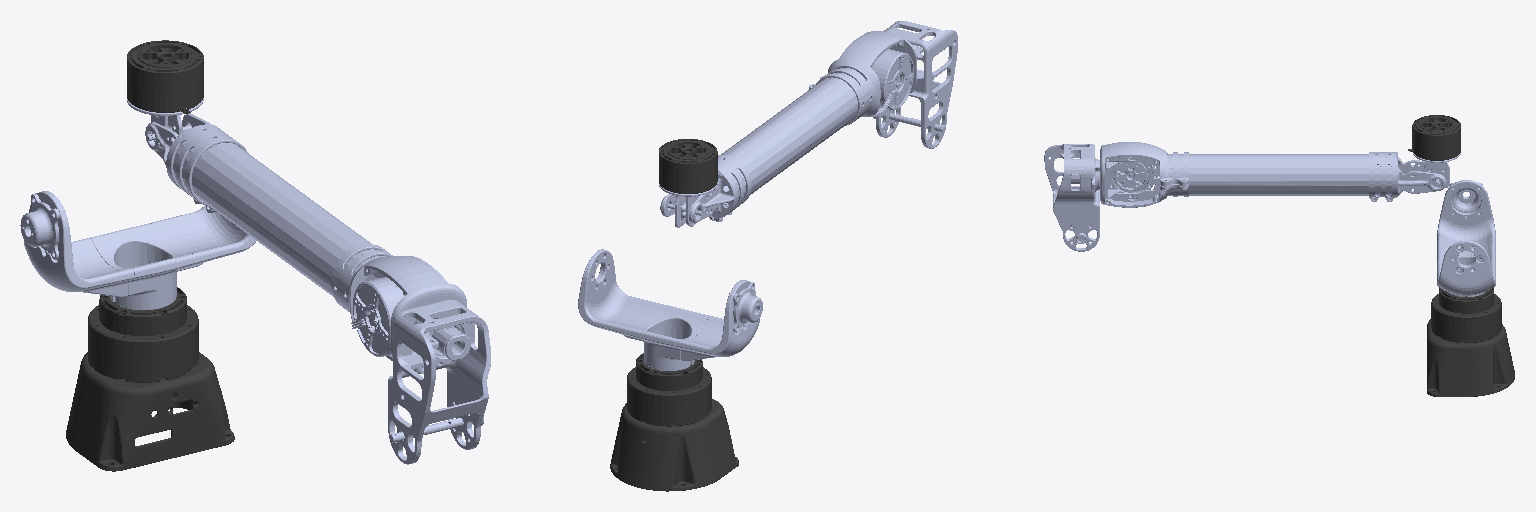
URDF robot description (FastArmer):
<?xml version="1.0" encoding="utf-8"?>
<!-- This URDF was automatically created by SolidWorks to URDF Exporter! Originally created by [author] ([email redacted]) 
     Commit Version: 1.6.0-1-g15f4949  Build Version: 1.6.7594.29634
     For more information, please see http://wiki.ros.org/sw_urdf_exporter -->
<robot
  name="FastArmer">
  <link
    name="base_link">
    <inertial>
      <origin
        xyz="-7.95585650901209E-05 -0.000462722401799009 0.0681453386578888"
        rpy="0 0 0" />
      <mass
        value="0.23763492660524" />
      <inertia
        ixx="0.000152486129579449"
        ixy="-1.24954243239131E-07"
        ixz="-3.47152305512023E-08"
        iyy="0.000162066033231765"
        iyz="1.59940105977221E-06"
        izz="0.000227896620770121" />
    </inertial>
    <visual>
      <origin
        xyz="0 0 0"
        rpy="0 0 0" />
      <geometry>
        <mesh
          filename="package://FastArmer/meshes/base_link.STL" />
      </geometry>
      <material
        name="">
        <color
          rgba="0.298039215686275 0.298039215686275 0.298039215686275 1" />
      </material>
    </visual>
    <collision>
      <origin
        xyz="0 0 0"
        rpy="0 0 0" />
      <geometry>
        <mesh
          filename="package://FastArmer/meshes/base_link.STL" />
      </geometry>
    </collision>
  </link>
  <link
    name="link1">
    <inertial>
      <origin
        xyz="-2.50218681052683E-07 -0.00305164206962188 -0.036242986713688"
        rpy="0 0 0" />
      <mass
        value="0.121039875923321" />
      <inertia
        ixx="0.000134357938922348"
        ixy="-4.35945002280025E-11"
        ixz="-7.66548516576531E-09"
        iyy="6.99882650494688E-05"
        iyz="-2.15666748742684E-05"
        izz="0.000138275187702787" />
    </inertial>
    <visual>
      <origin
        xyz="0 0 0"
        rpy="0 0 0" />
      <geometry>
        <mesh
          filename="package://FastArmer/meshes/link1.STL" />
      </geometry>
      <material
        name="">
        <color
          rgba="0.792156862745098 0.819607843137255 0.933333333333333 1" />
      </material>
    </visual>
    <collision>
      <origin
        xyz="0 0 0"
        rpy="0 0 0" />
      <geometry>
        <mesh
          filename="package://FastArmer/meshes/link1.STL" />
      </geometry>
    </collision>
  </link>
  <joint
    name="joint1"
    type="continuous">
    <origin
      xyz="0 0 0.176"
      rpy="0 0 -1.5708" />
    <parent
      link="base_link" />
    <child
      link="link1" />
    <axis
      xyz="0 0 -1" />
  </joint>
  <link
    name="link2">
    <inertial>
      <origin
        xyz="0.0473450599629209 -4.58388010393662E-06 -0.00292384400918178"
        rpy="0 0 0" />
      <mass
        value="0.591012880164826" />
      <inertia
        ixx="0.000276034377116555"
        ixy="9.9205575777915E-07"
        ixz="-3.11989996323451E-06"
        iyy="0.000686219679670127"
        iyz="-1.99672828293364E-07"
        izz="0.000777900346197567" />
    </inertial>
    <visual>
      <origin
        xyz="0 0 0"
        rpy="0 0 0" />
      <geometry>
        <mesh
          filename="package://FastArmer/meshes/link2.STL" />
      </geometry>
      <material
        name="">
        <color
          rgba="0.792156862745098 0.819607843137255 0.933333333333333 1" />
      </material>
    </visual>
    <collision>
      <origin
        xyz="0 0 0"
        rpy="0 0 0" />
      <geometry>
        <mesh
          filename="package://FastArmer/meshes/link2.STL" />
      </geometry>
    </collision>
  </link>
  <joint
    name="joint2"
    type="continuous">
    <origin
      xyz="0 0 0"
      rpy="-1.5707963267949 0 0" />
    <parent
      link="link1" />
    <child
      link="link2" />
    <axis
      xyz="0 0 1" />
  </joint>
  <link
    name="link3">
    <inertial>
      <origin
        xyz="0.0464356396608939 0.00083885285986629 -0.00610992373086672"
        rpy="0 0 0" />
      <mass
        value="0.0496773274709177" />
      <inertia
        ixx="3.09355074520831E-05"
        ixy="1.56310000748367E-06"
        ixz="-1.33396990476364E-06"
        iyy="5.86646750938163E-05"
        iyz="2.07607432453718E-06"
        izz="4.71032700970431E-05" />
    </inertial>
    <visual>
      <origin
        xyz="0 0 0"
        rpy="0 0 0" />
      <geometry>
        <mesh
          filename="package://FastArmer/meshes/link3.STL" />
      </geometry>
      <material
        name="">
        <color
          rgba="0.792156862745098 0.819607843137255 0.933333333333333 1" />
      </material>
    </visual>
    <collision>
      <origin
        xyz="0 0 0"
        rpy="0 0 0" />
      <geometry>
        <mesh
          filename="package://FastArmer/meshes/link3.STL" />
      </geometry>
    </collision>
  </link>
  <joint
    name="joint3"
    type="continuous">
    <origin
      xyz="0.417 0 0"
      rpy="0 0 -1.5707963267949" />
    <parent
      link="link2" />
    <child
      link="link3" />
    <axis
      xyz="0 0 -1" />
  </joint>
  <link
    name="link4">
    <inertial>
      <origin
        xyz="7.47834705313588E-05 0.0032171546397371 -0.263466713373761"
        rpy="0 0 0" />
      <mass
        value="0.190315442175958" />
      <inertia
        ixx="0.000391647905958664"
        ixy="-9.60268291735708E-08"
        ixz="3.6952799358203E-07"
        iyy="0.000418313788817878"
        iyz="2.0311198390171E-06"
        izz="7.98166047733909E-05" />
    </inertial>
    <visual>
      <origin
        xyz="0 0 0"
        rpy="0 0 0" />
      <geometry>
        <mesh
          filename="package://FastArmer/meshes/link4.STL" />
      </geometry>
      <material
        name="">
        <color
          rgba="0.792156862745098 0.819607843137255 0.933333333333333 1" />
      </material>
    </visual>
    <collision>
      <origin
        xyz="0 0 0"
        rpy="0 0 0" />
      <geometry>
        <mesh
          filename="package://FastArmer/meshes/link4.STL" />
      </geometry>
    </collision>
  </link>
  <joint
    name="joint4"
    type="continuous">
    <origin
      xyz="0.0650000000000004 -0.385 0"
      rpy="-1.5707963267949 0 3.14159265358979" />
    <parent
      link="link3" />
    <child
      link="link4" />
    <axis
      xyz="0 0 -1" />
  </joint>
  <link
    name="link5">
    <inertial>
      <origin
        xyz="6.42546968387392E-05 0.0121471263639341 -0.000321593374336848"
        rpy="0 0 0" />
      <mass
        value="0.00925241540380718" />
      <inertia
        ixx="2.22491474069906E-06"
        ixy="7.85112302933983E-09"
        ixz="4.03626938375769E-12"
        iyy="1.37577908413616E-06"
        iyz="5.21062802463209E-08"
        izz="2.26981978105116E-06" />
    </inertial>
    <visual>
      <origin
        xyz="0 0 0"
        rpy="0 0 0" />
      <geometry>
        <mesh
          filename="package://FastArmer/meshes/link5.STL" />
      </geometry>
      <material
        name="">
        <color
          rgba="0.792156862745098 0.819607843137255 0.933333333333333 1" />
      </material>
    </visual>
    <collision>
      <origin
        xyz="0 0 0"
        rpy="0 0 0" />
      <geometry>
        <mesh
          filename="package://FastArmer/meshes/link5.STL" />
      </geometry>
    </collision>
  </link>
  <joint
    name="joint5"
    type="continuous">
    <origin
      xyz="0 0 0"
      rpy="1.5707963267949 -1.5707963267949 0" />
    <parent
      link="link4" />
    <child
      link="link5" />
    <axis
      xyz="0 0 -1" />
  </joint>
  <link
    name="link6">
    <inertial>
      <origin
        xyz="-2.22180659864013E-05 0.000999999558207953 0.0444036285920498"
        rpy="0 0 0" />
      <mass
        value="0.0571437561739702" />
      <inertia
        ixx="1.14880247629272E-05"
        ixy="-4.82691850960158E-13"
        ixz="-7.92107505632982E-09"
        iyy="1.15174589279948E-05"
        iyz="-9.69498236146727E-14"
        izz="2.18358876423069E-05" />
    </inertial>
    <visual>
      <origin
        xyz="0 0 0"
        rpy="0 0 0" />
      <geometry>
        <mesh
          filename="package://FastArmer/meshes/link6.STL" />
      </geometry>
      <material
        name="">
        <color
          rgba="0.309803921568627 0.309803921568627 0.309803921568627 1" />
      </material>
    </visual>
    <collision>
      <origin
        xyz="0 0 0"
        rpy="0 0 0" />
      <geometry>
        <mesh
          filename="package://FastArmer/meshes/link6.STL" />
      </geometry>
    </collision>
  </link>
  <joint
    name="joint6"
    type="continuous">
    <origin
      xyz="0 0 0"
      rpy="-1.5707963267949 0 0" />
    <parent
      link="link5" />
    <child
      link="link6" />
    <axis
      xyz="0 0 1" />
  </joint>
</robot>

--- Facts derived from the render (not from the file) ---
3 views of the same robot in one strip: view 1: azimuth 30°, elevation 25°; view 2: azimuth 150°, elevation 25°; view 3: azimuth 270°, elevation 25° (orthographic).
Model FastArmer with 7 links and 6 joints (6 continuous), rooted at base_link, posed every joint at zero.
Links seen in each view (by area): view 1: link4, base_link, link1, link3, link6, link5; view 2: link4, base_link, link1, link3, link6, link5; view 3: link4, base_link, link1, link3, link6.
Link boxes in pixels (x1=…): link4: x1=145, y1=113, x2=470, y2=360; base_link: x1=66, y1=287, x2=234, y2=471; link1: x1=20, y1=191, x2=255, y2=309; link3: x1=388, y1=300, x2=490, y2=464; link6: x1=127, y1=40, x2=203, y2=113; link5: x1=127, y1=98, x2=203, y2=140; link4: x1=660, y1=31, x2=918, y2=223; base_link: x1=610, y1=353, x2=738, y2=491; link1: x1=578, y1=249, x2=762, y2=370; link3: x1=873, y1=21, x2=957, y2=148; link6: x1=659, y1=139, x2=717, y2=193; link5: x1=659, y1=182, x2=717, y2=227; link4: x1=1071, y1=142, x2=1445, y2=207; base_link: x1=1427, y1=287, x2=1514, y2=396; link1: x1=1437, y1=180, x2=1495, y2=296; link3: x1=1044, y1=144, x2=1099, y2=251; link6: x1=1408, y1=115, x2=1460, y2=160.
Size in the robot's own frame: 0.1712 by 0.5101 by 0.301 metres.
6 mesh visuals loaded from 7 distinct referenced files (6 binary STL); not drawn: 1 (reference not matched to a file when rendering).
